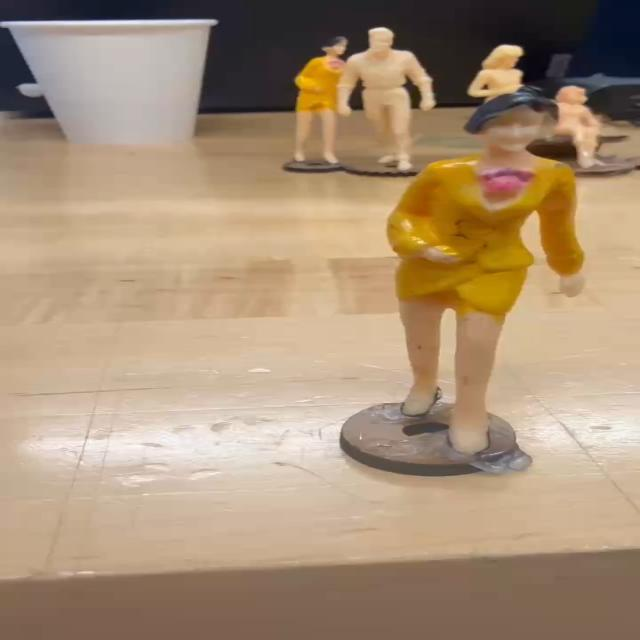Authorized: (391, 95, 597, 460)
